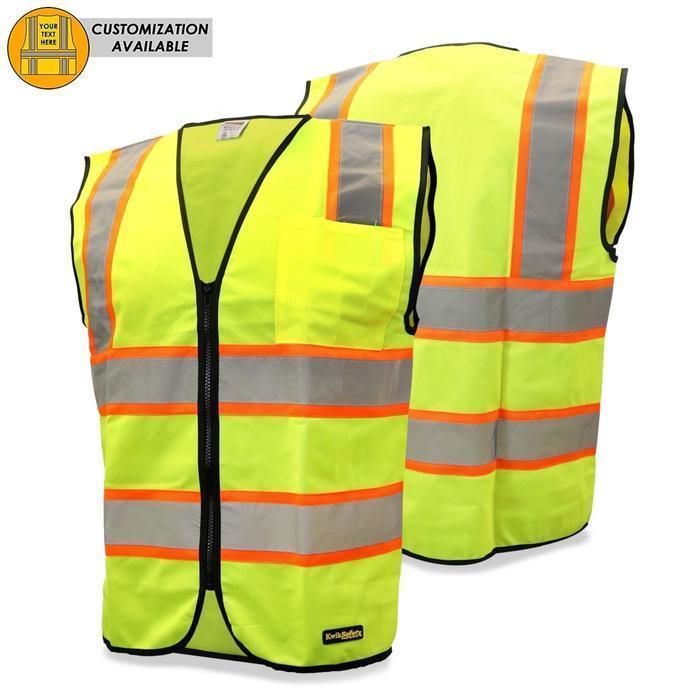vest: (73, 114, 436, 673), (293, 42, 636, 566)
